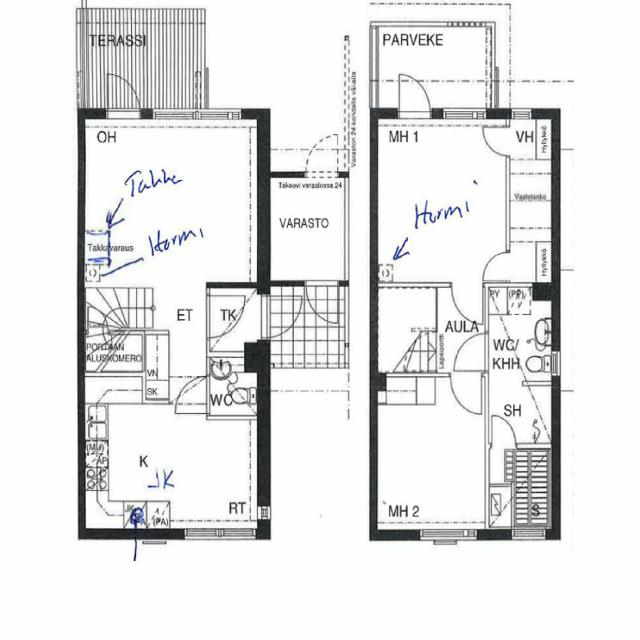door: (257, 296, 304, 338), (108, 71, 140, 119), (206, 296, 244, 336), (399, 72, 429, 118), (174, 376, 210, 414), (452, 333, 488, 371), (306, 280, 337, 322), (451, 282, 482, 324), (450, 373, 481, 414), (491, 415, 515, 449), (481, 127, 509, 156), (481, 253, 509, 281)
